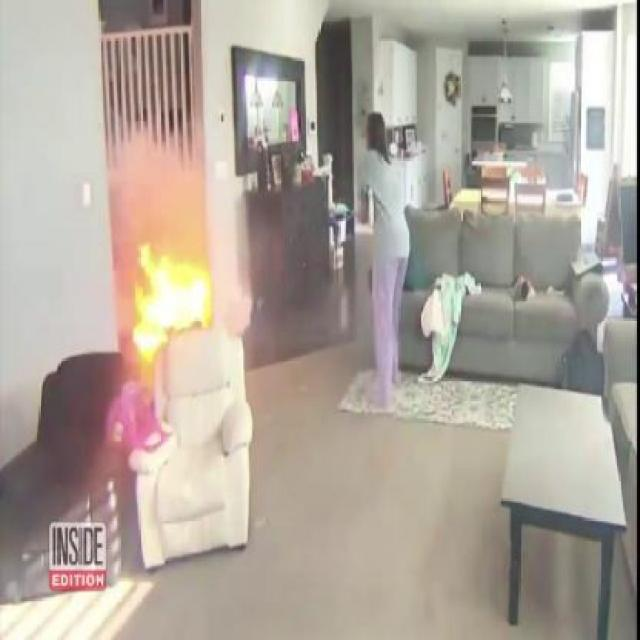fire: (133, 242, 222, 356)
smoke: (120, 132, 222, 236)
